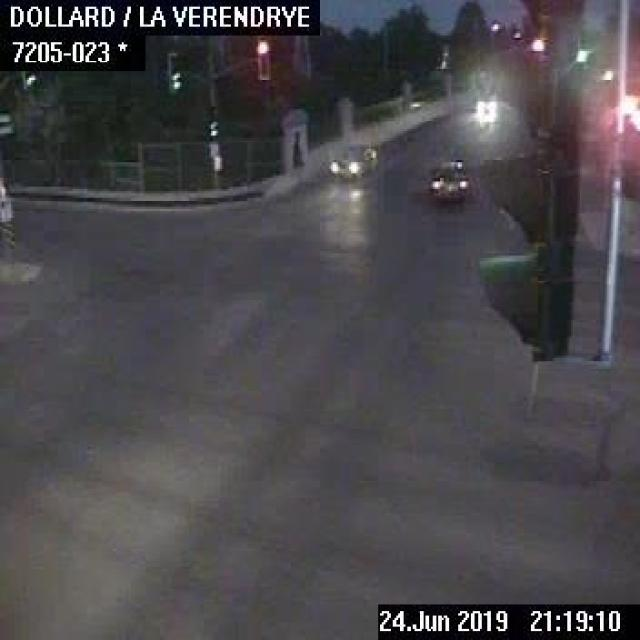vehicle: (327, 140, 382, 180), (427, 156, 471, 202), (475, 93, 498, 111)
